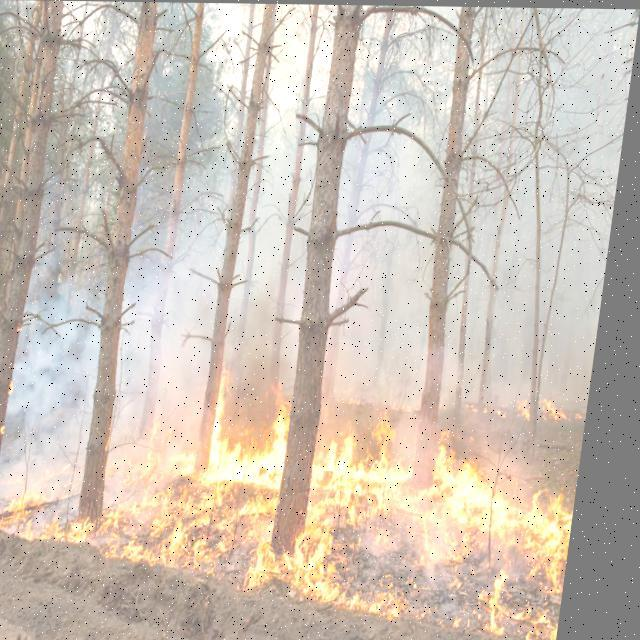Fire: (0, 333, 601, 639)
